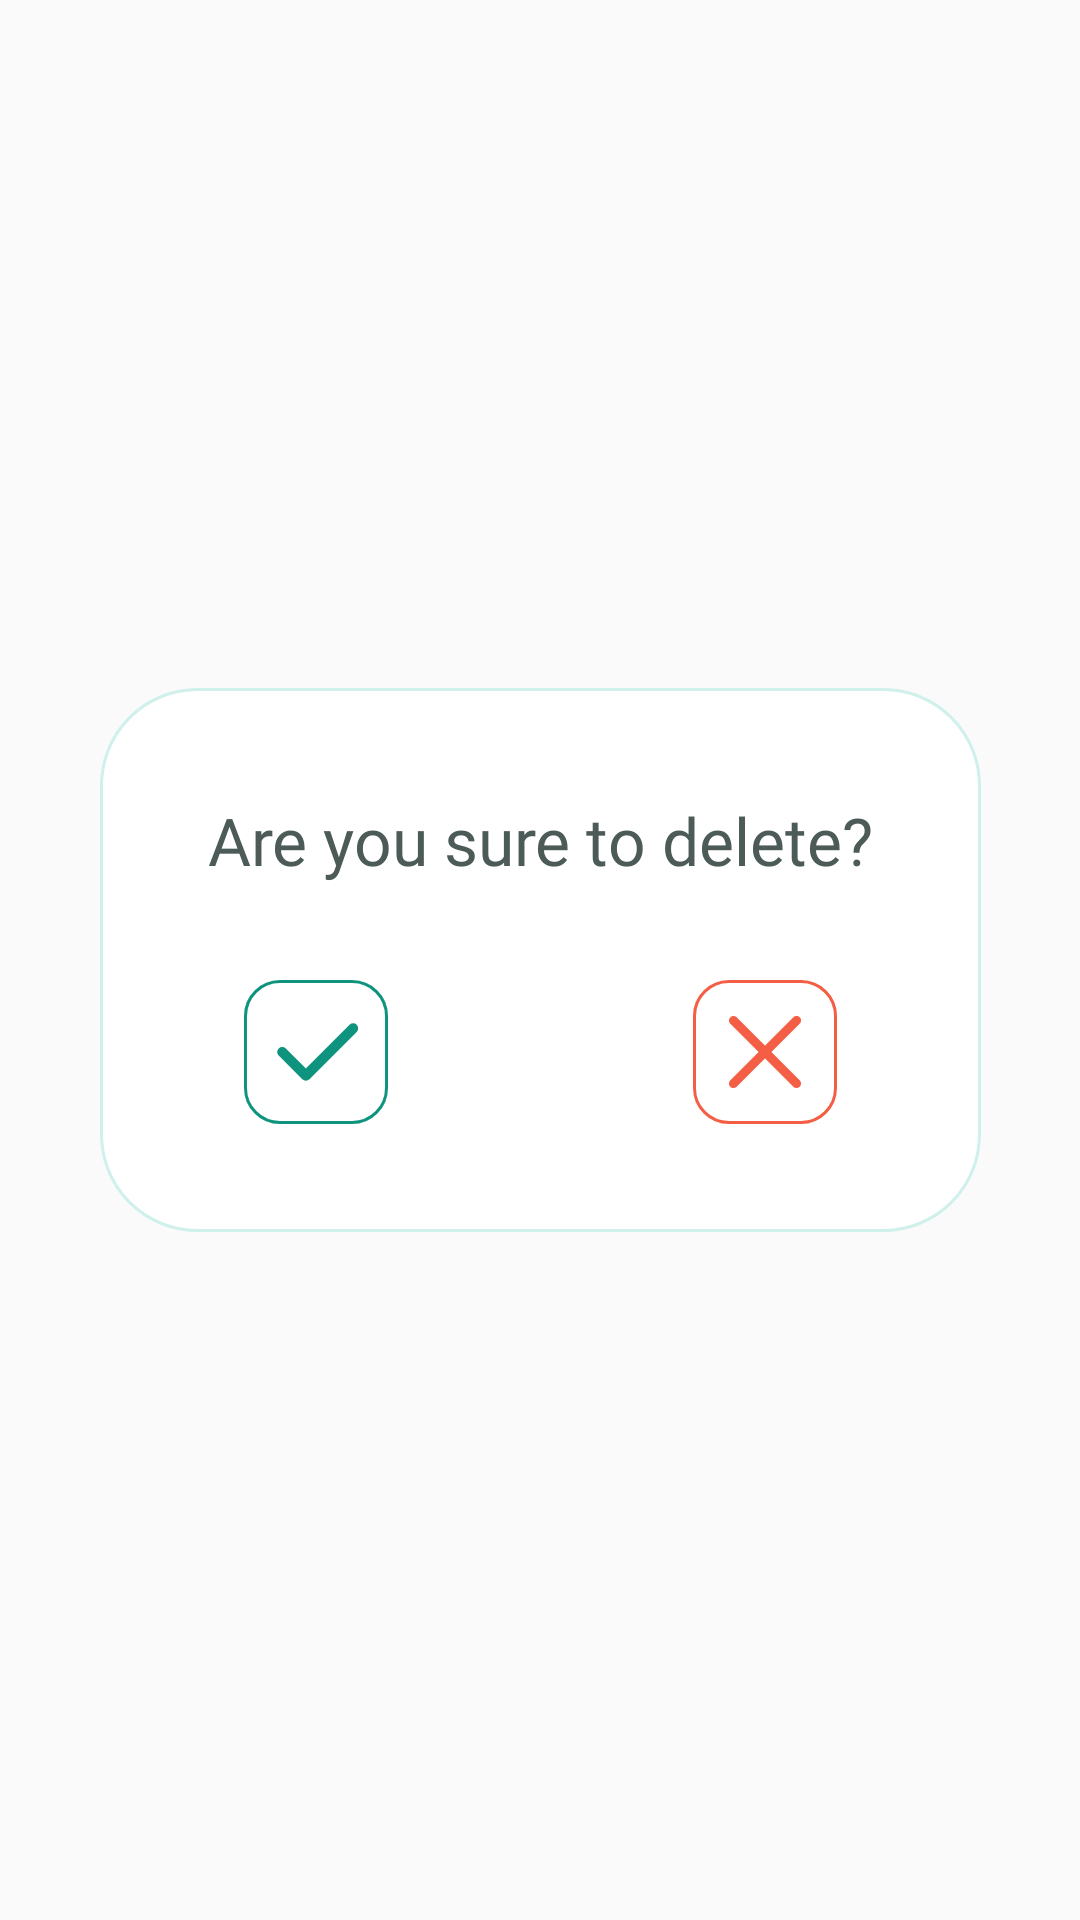

Icon click points for this 1080 × 1920 phone screenshot, format [x,y]:
not: [765,1052]
